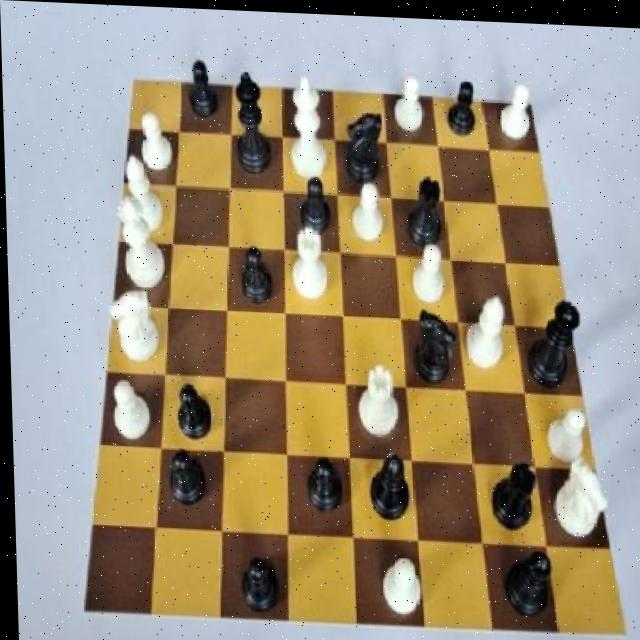bishop: (494, 532, 557, 622), (355, 438, 413, 524)
black-bishop: (226, 65, 276, 183)
black-king: (405, 297, 463, 389), (337, 100, 387, 187)
black-knight: (228, 542, 287, 620), (164, 369, 217, 446), (158, 435, 207, 512), (297, 446, 347, 521), (230, 236, 276, 312), (292, 167, 335, 243), (180, 51, 226, 121), (440, 65, 481, 137)
black-pawn: (517, 285, 586, 392)
black-queen: (482, 445, 541, 537), (397, 162, 447, 252)
black-rook: (456, 284, 514, 375), (115, 147, 169, 241)
white-bishop: (281, 65, 335, 184)
white-king: (548, 447, 608, 550), (101, 276, 161, 368)
white-knight: (99, 366, 154, 452), (381, 58, 435, 141), (369, 546, 428, 621), (536, 394, 589, 467), (132, 103, 178, 181), (343, 169, 388, 246), (491, 69, 538, 142), (402, 231, 447, 305)
white-pawn: (111, 188, 169, 298)
white-queen: (345, 350, 404, 445), (285, 217, 331, 310)
